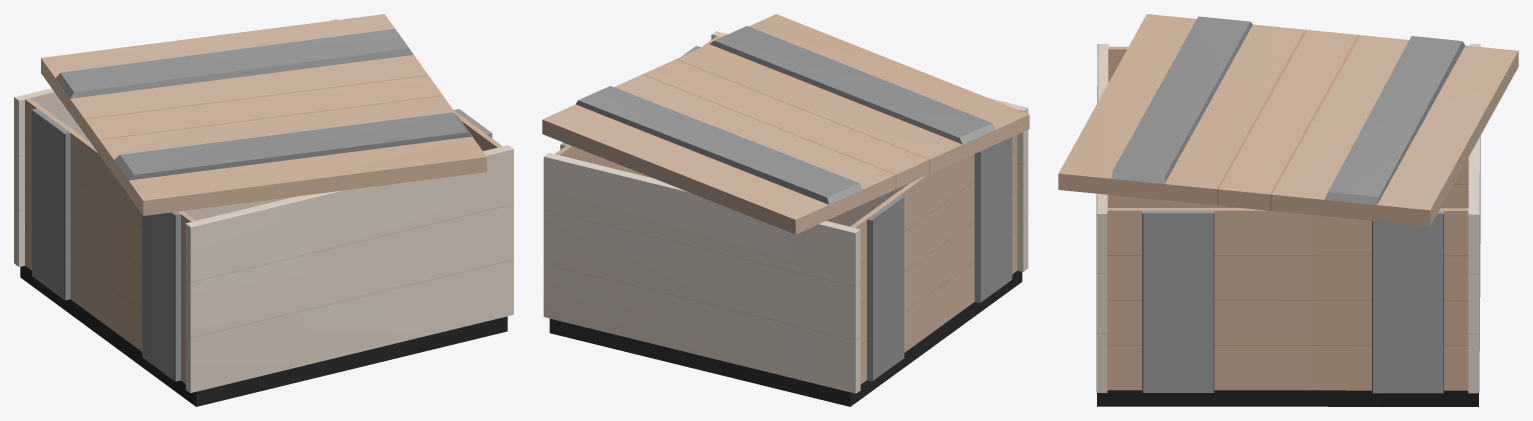
The model's file is Med Wide Crate w_Lid#1.fbx.
The picture shows the model from 3 angles, left to right: view 1: azimuth 30°, elevation 25°; view 2: azimuth 150°, elevation 25°; view 3: azimuth 270°, elevation 25°; orthographic projection. The views are drawn at different scales.
Parts seen in each view (by area): view 1: Wide Colored Crate w/Lid #1; view 2: Wide Colored Crate w/Lid #1; view 3: Wide Colored Crate w/Lid #1.
Boxes of the visible parts, x1,y1,x2,y2 form: Wide Colored Crate w/Lid #1: (14, 14, 513, 406); Wide Colored Crate w/Lid #1: (542, 14, 1029, 406); Wide Colored Crate w/Lid #1: (1058, 14, 1518, 406).
Size of the model in its own units: 193 by 368 by 372.
1 material, 1 textured.
